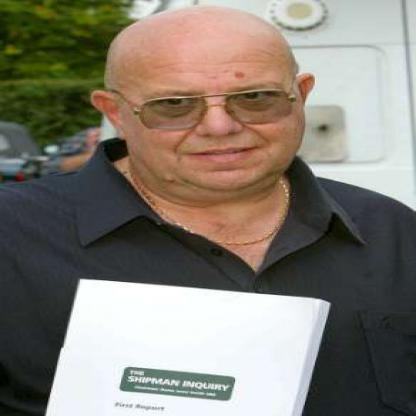face: (111, 6, 306, 195)
